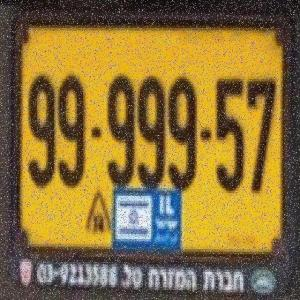Plate: (7, 9, 297, 296)
